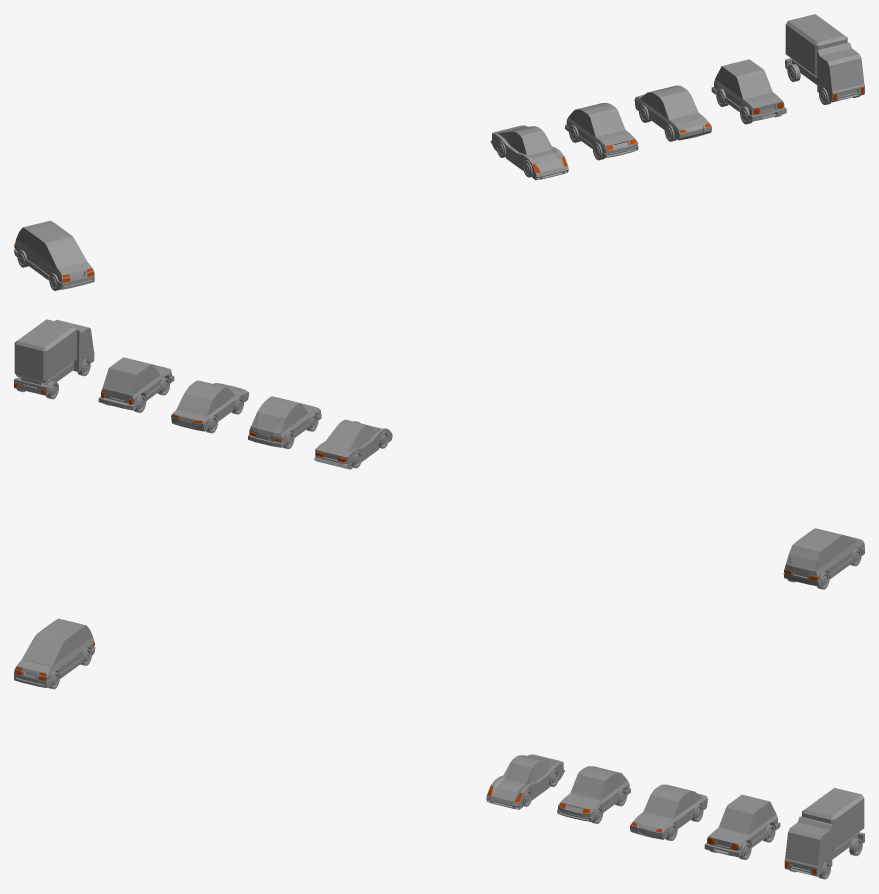
Rendered from PurpleCar.FBX.
The picture shows the model from 3 angles, top to bottom: view 1: azimuth 30°, elevation 25°; view 2: azimuth 150°, elevation 25°; view 3: azimuth 330°, elevation 25°; orthographic projection.
Visible parts, largest first — view 1: yellow, green001, green, red, orange, blue; view 2: yellow, green001, green, orange, blue, red; view 3: yellow, green001, green, red, orange, blue.
Boxes of the visible parts, x1=… form: yellow: x1=785, y1=14, x2=864, y2=102; green001: x1=14, y1=220, x2=94, y2=289; green: x1=711, y1=59, x2=786, y2=121; red: x1=490, y1=125, x2=568, y2=180; orange: x1=634, y1=85, x2=711, y2=140; blue: x1=565, y1=103, x2=638, y2=157; yellow: x1=14, y1=319, x2=94, y2=395; green001: x1=783, y1=528, x2=864, y2=586; green: x1=98, y1=357, x2=174, y2=410; orange: x1=171, y1=380, x2=248, y2=431; blue: x1=248, y1=396, x2=321, y2=447; red: x1=314, y1=419, x2=392, y2=469; yellow: x1=784, y1=788, x2=864, y2=876; green001: x1=14, y1=618, x2=95, y2=687; green: x1=704, y1=794, x2=780, y2=857; red: x1=486, y1=754, x2=564, y2=809; orange: x1=630, y1=784, x2=707, y2=839; blue: x1=557, y1=766, x2=630, y2=821.
Size of the model in its own units: 1470 by 96.1 by 164.
